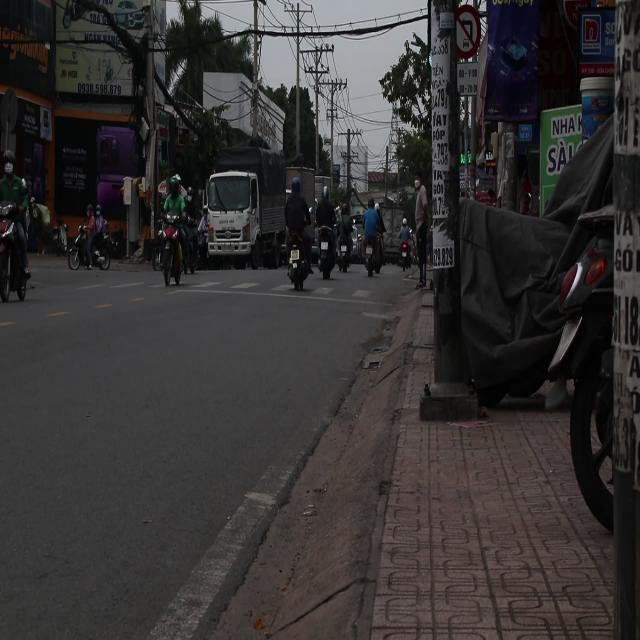motorbike: (154, 221, 185, 286), (313, 222, 339, 280), (287, 233, 312, 292), (364, 237, 384, 278)
truck: (203, 173, 261, 266)
